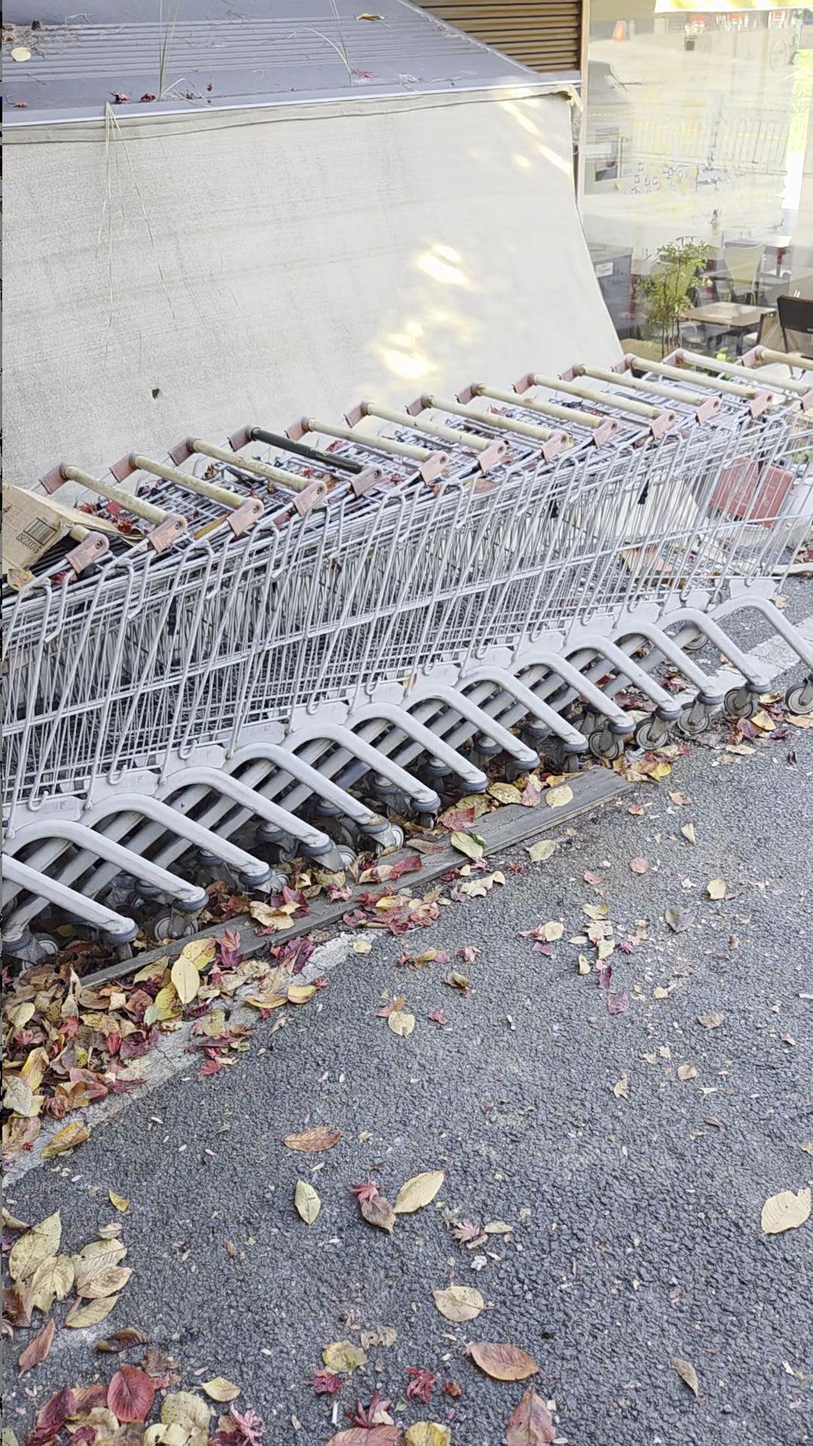combined_cart: (7, 345, 812, 997)
